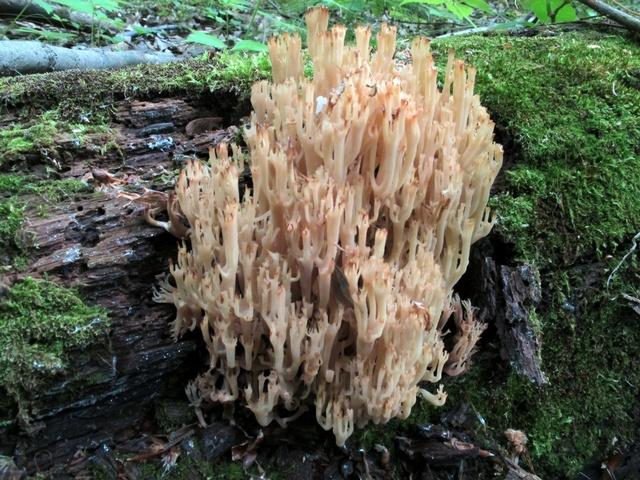Edible Mushroom: (143, 5, 505, 448)
